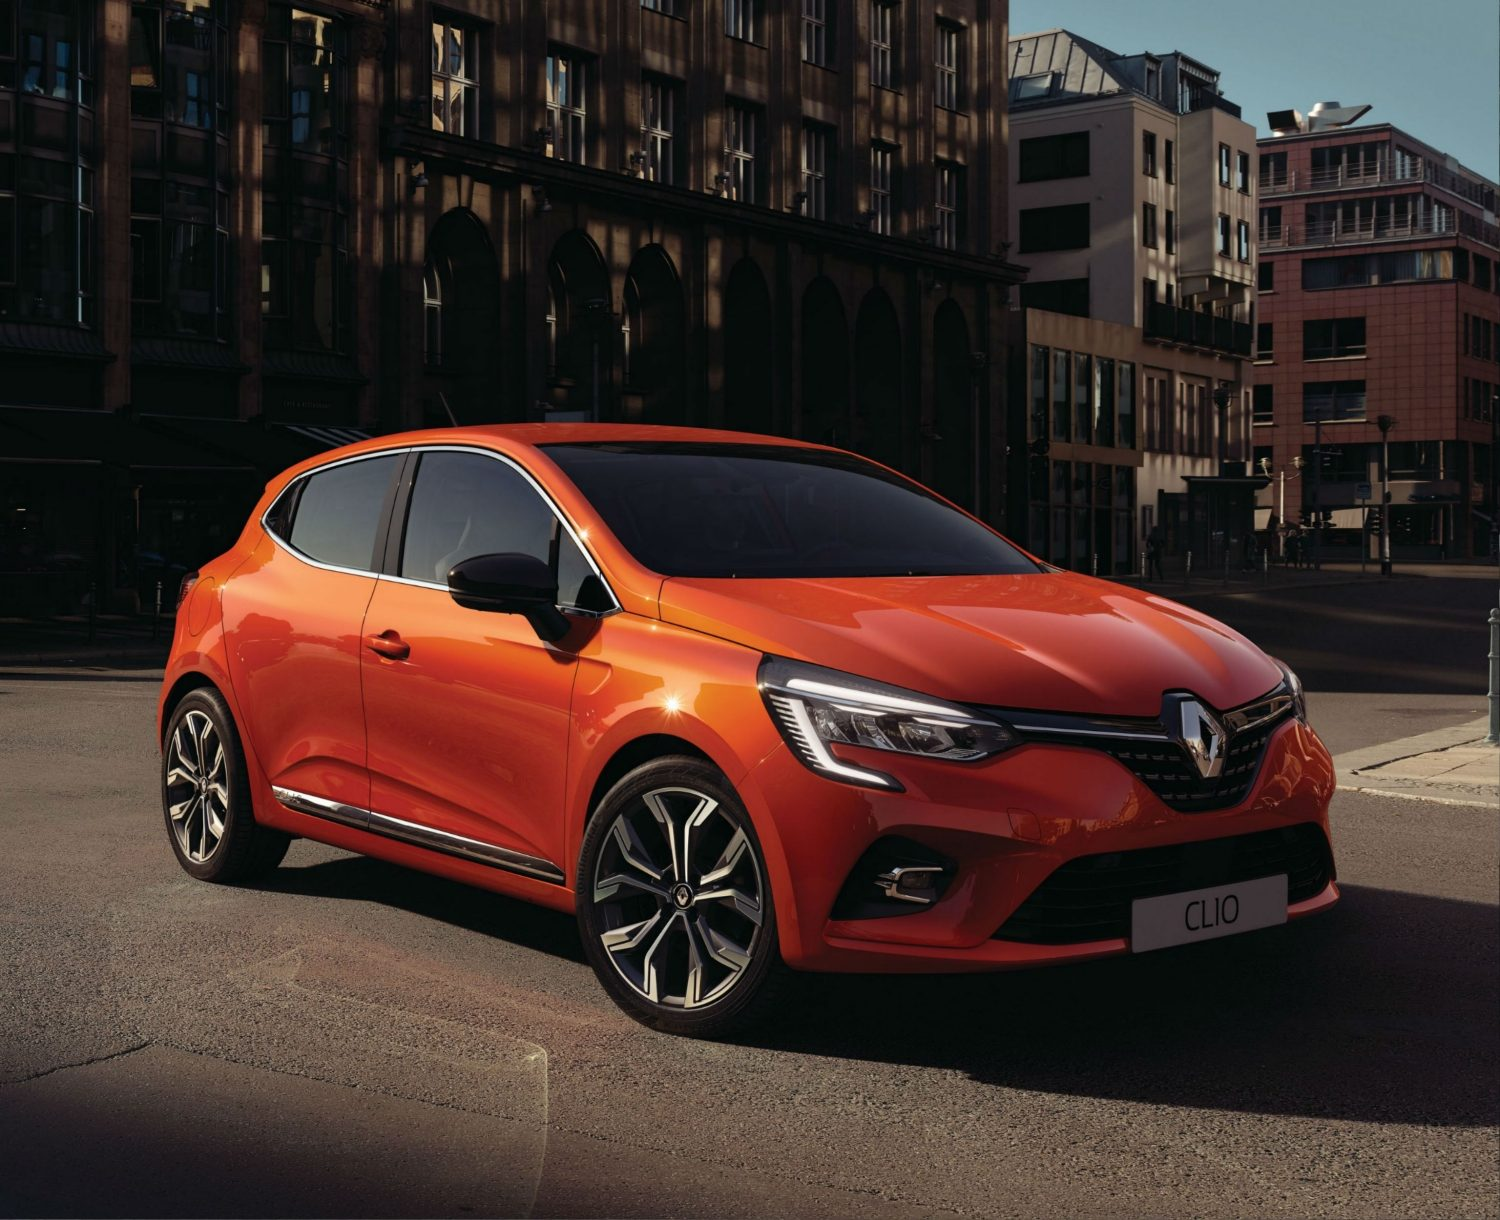car: (156, 411, 1342, 1003)
